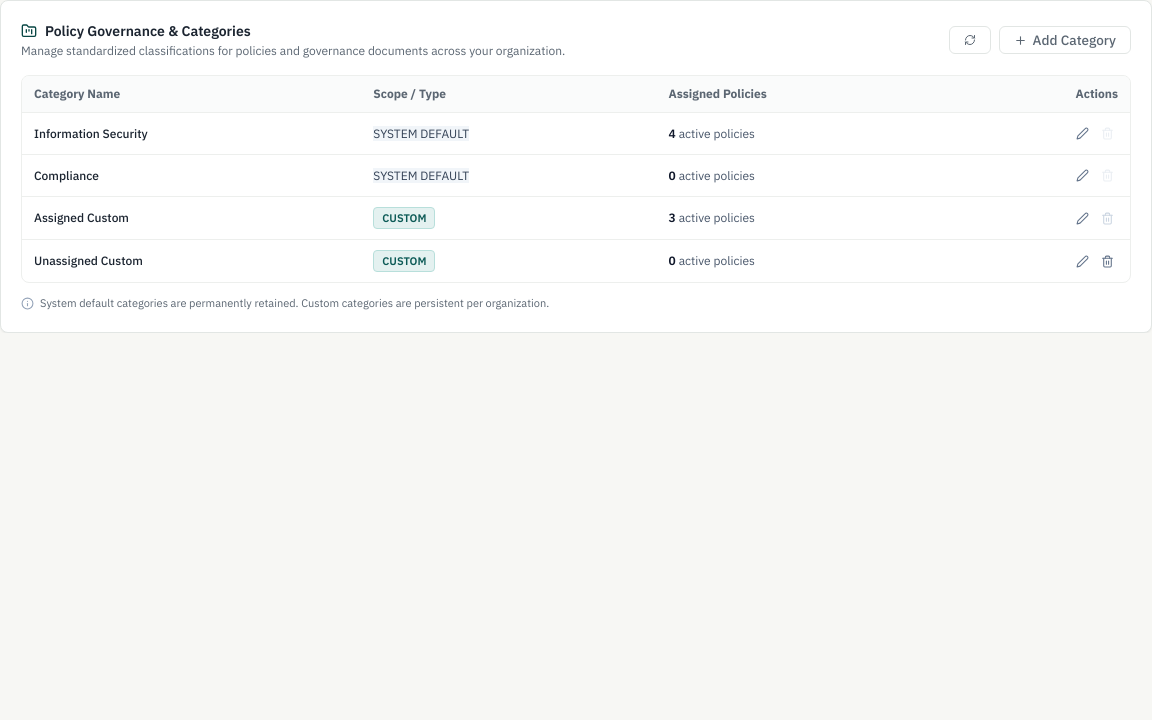
Test case: Phase 3 Workflows: Risk Clause Dropdown, Policy Governance & Vulnerability Ownership › Scope B — Policy Structured Editor & Category Settings › PolicyCategoriesSettingsCard disables deletion for default categories and blocks deletion for assigned categories
Expected: the text "Information Security" is shown, [34,126,148,140]
Expected: the text "Compliance" is shown, [34,168,99,182]
Click the button titled "Assigned to 3 policies (deletion blocked)" at (1108, 218), box [1097,208,1118,228]
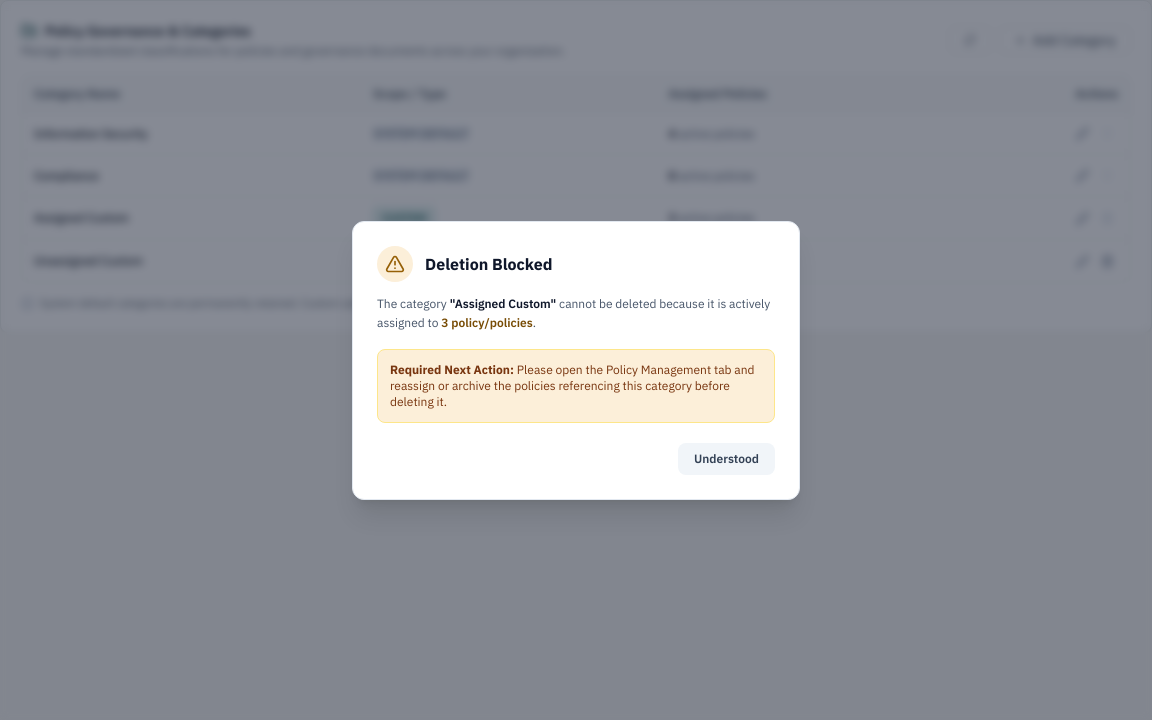
Expected: the heading "Deletion Blocked" is shown, [425,252,552,276]
Expected: the text "cannot be deleted because it is actively assigned to" is shown, [377,296,770,330]
Expected: the text "3 policy/policies" is shown, [441,315,533,330]
Note: Close modal
Click the button "Understood" at (726, 458), box [678,442,775,474]
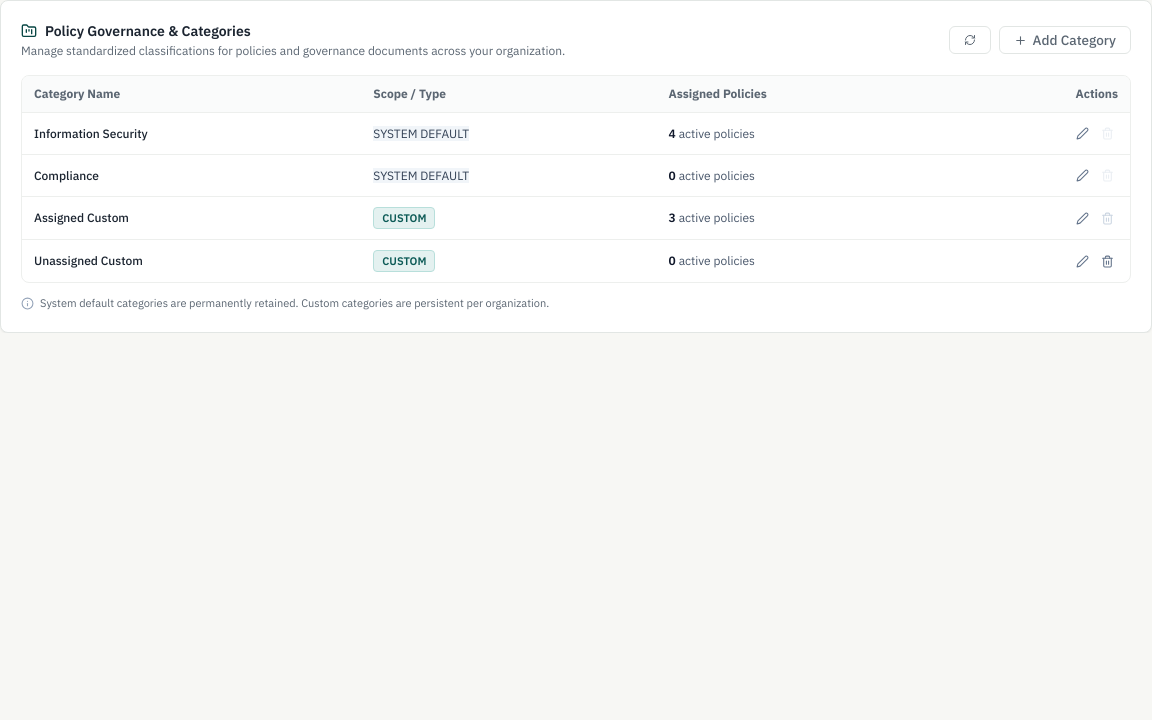
Click the button titled "Delete Category" at (1108, 261), box [1097,250,1118,272]
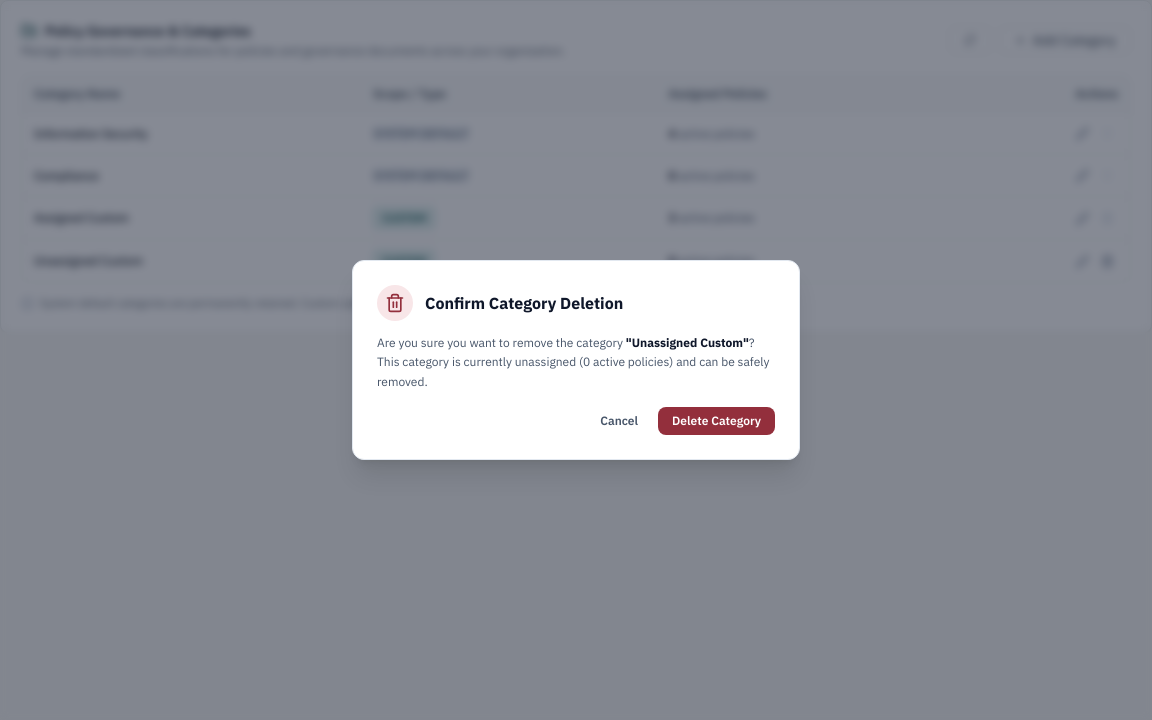
Expected: the heading "Confirm Category Deletion" is shown, [425,291,623,315]
Expected: the text "This category is currently unassigned (0 active policies) and can be safely removed." is shown, [377,335,769,389]
